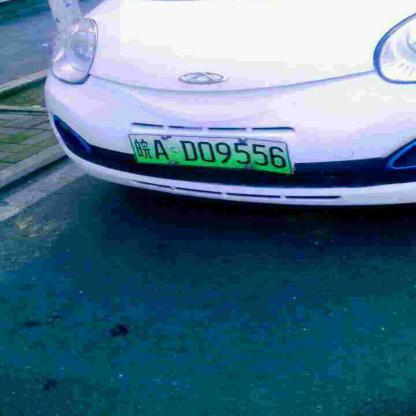lp: (126, 137, 293, 172)
